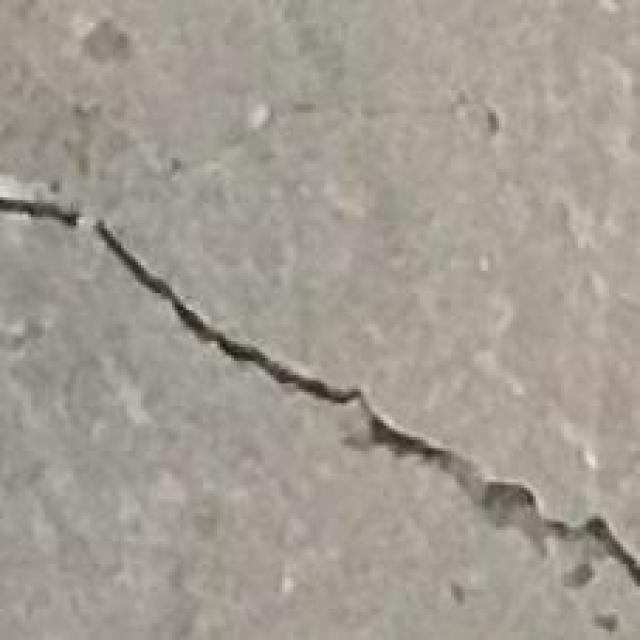Crack: (3, 192, 640, 581)
